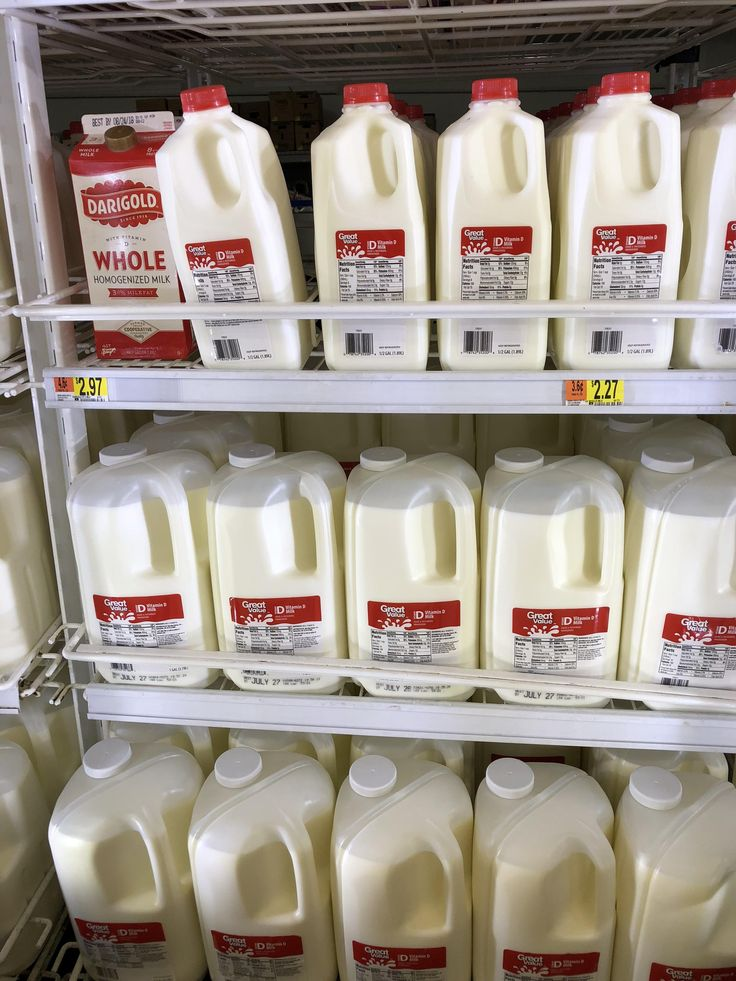milk: (164, 80, 307, 367), (214, 426, 347, 693), (574, 50, 672, 372), (328, 70, 421, 372), (452, 82, 538, 362)
